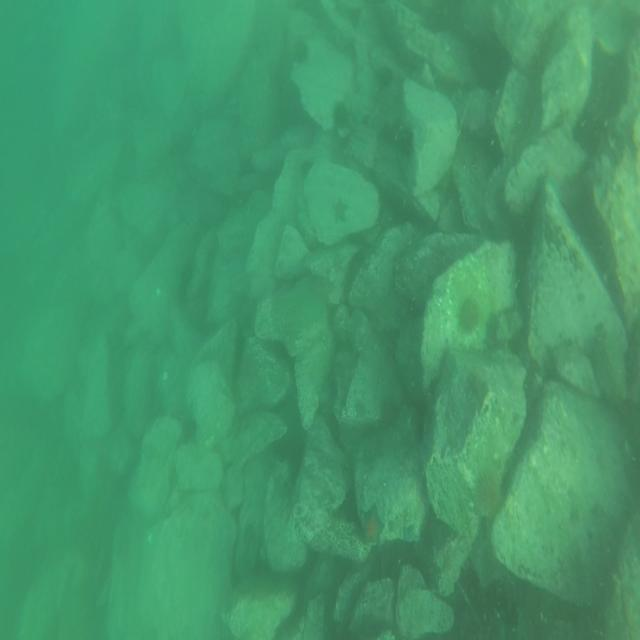echinus: (473, 466, 502, 519), (459, 301, 480, 336), (396, 126, 417, 159), (333, 100, 353, 132), (294, 38, 308, 65), (302, 158, 316, 181)
starfish: (362, 502, 386, 551), (334, 195, 351, 228)
